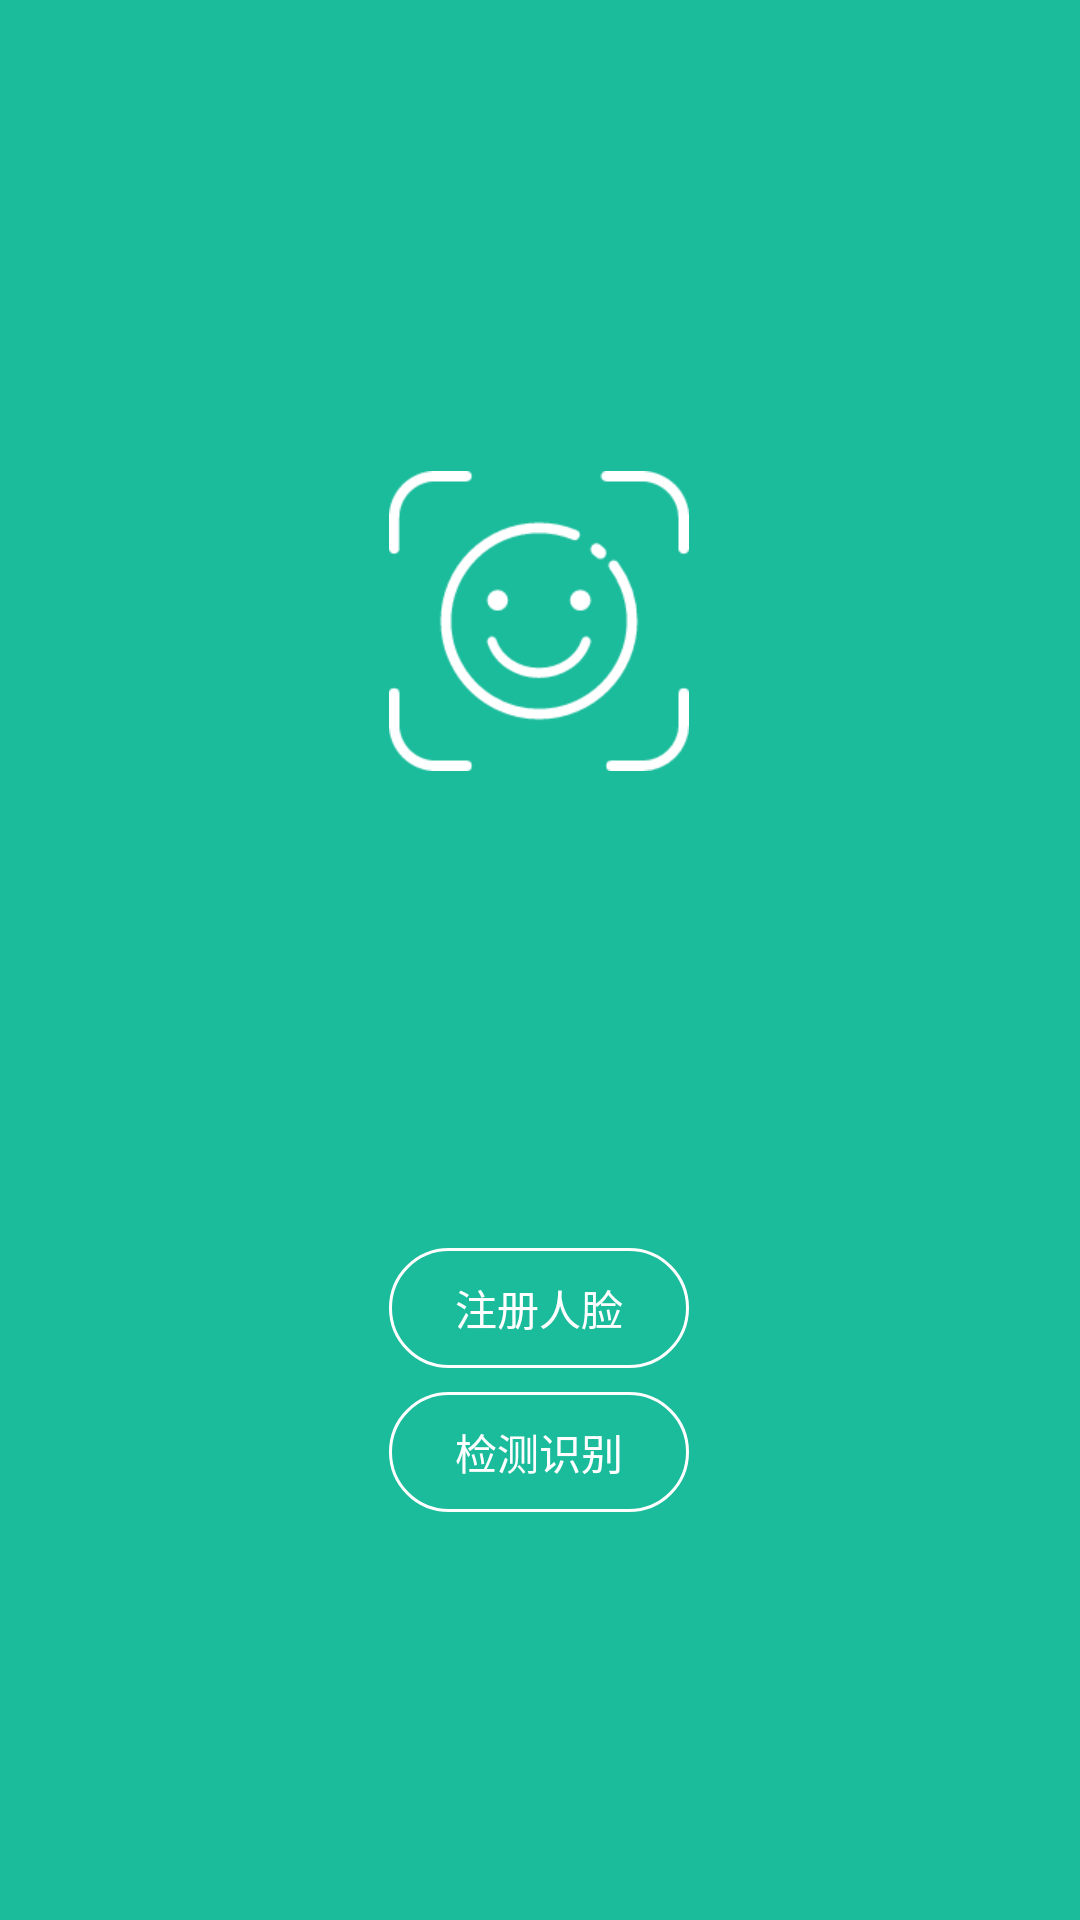

Icon click points for this 1080 x 1920 phone screenshot, format [x,y]:
face: [539,621]
